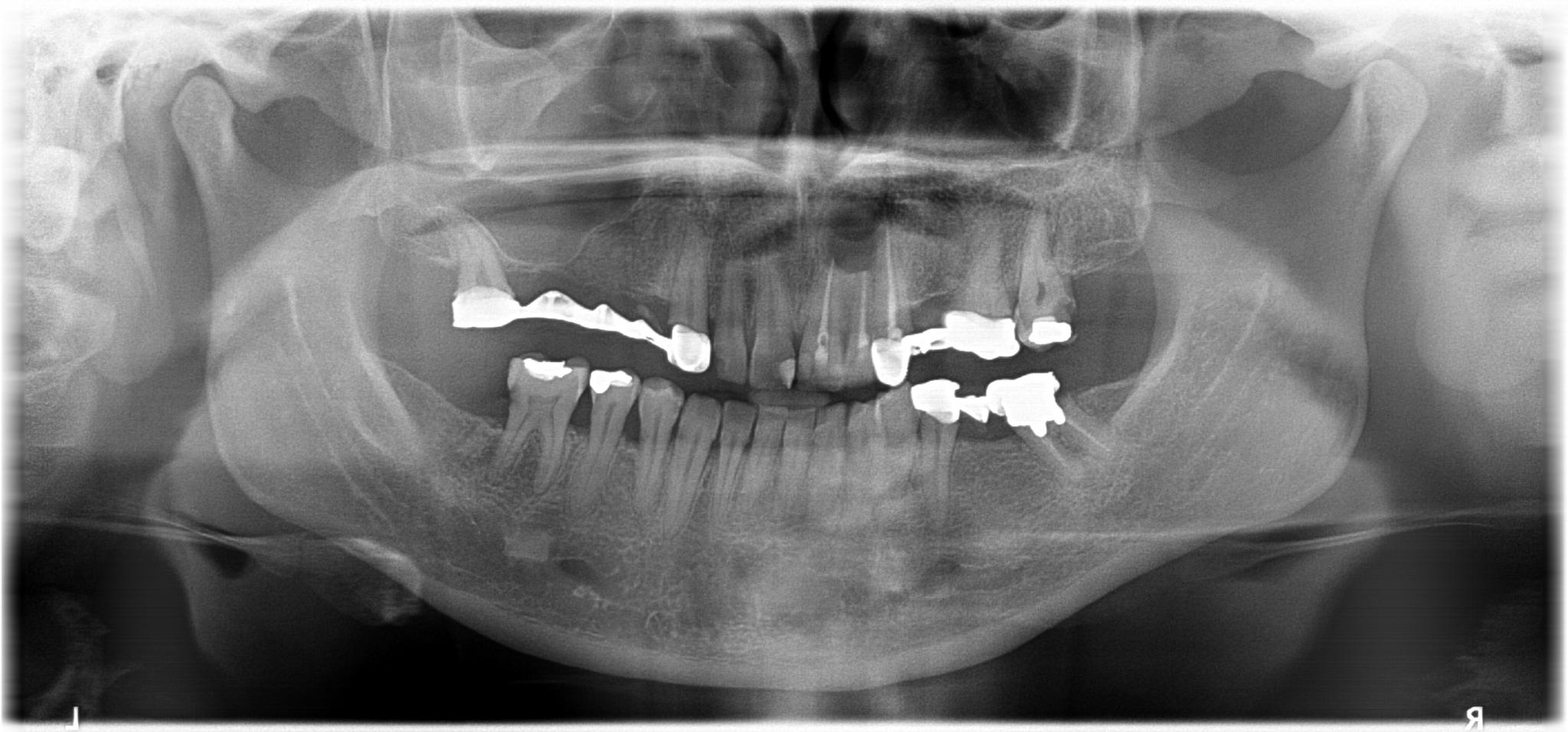Premolars: (545, 194, 1568, 562), (542, 192, 1568, 500), (372, 218, 1124, 548), (354, 192, 1016, 566), (328, 194, 966, 559), (299, 188, 884, 539)
